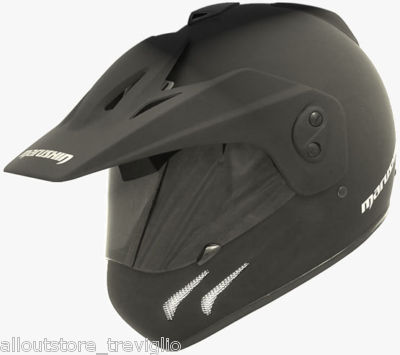helmet: (87, 20, 383, 334)
